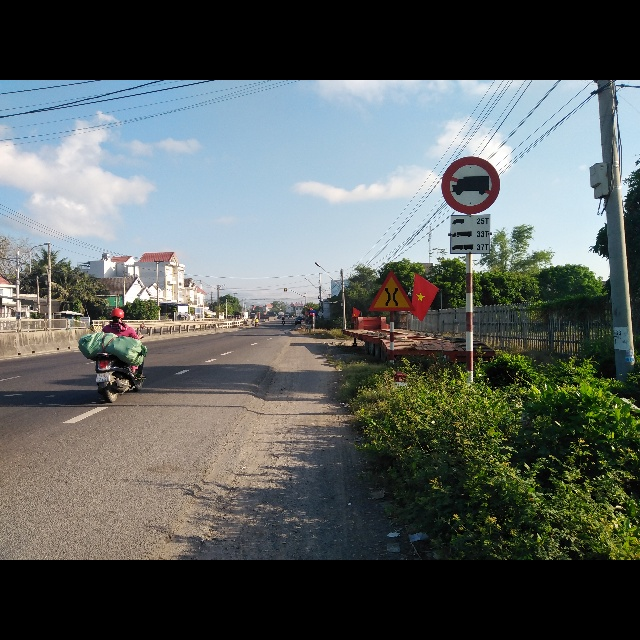Cấm xe tải: (440, 157, 501, 215)
Cầu hẹp: (367, 270, 414, 313)
